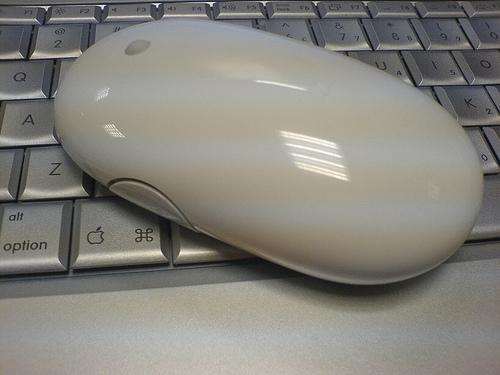apple: (87, 226, 104, 245)
